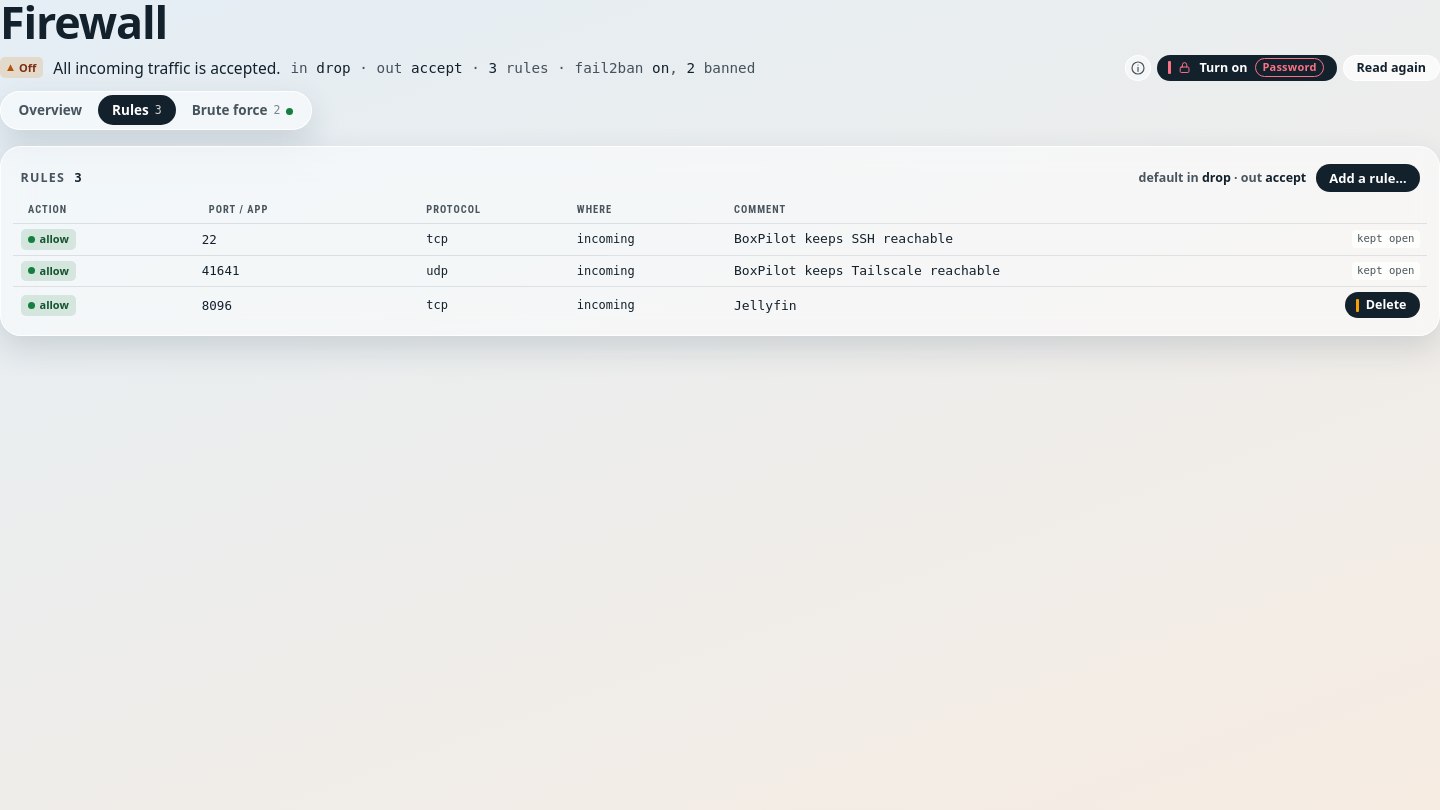
Test case: Firewall page › adds a rule from a sheet, and refuses a deny on a port that stays open
The image size is (1440, 810).
Click the button "Add a rule…": (1368, 178) [1316, 164, 1420, 192]
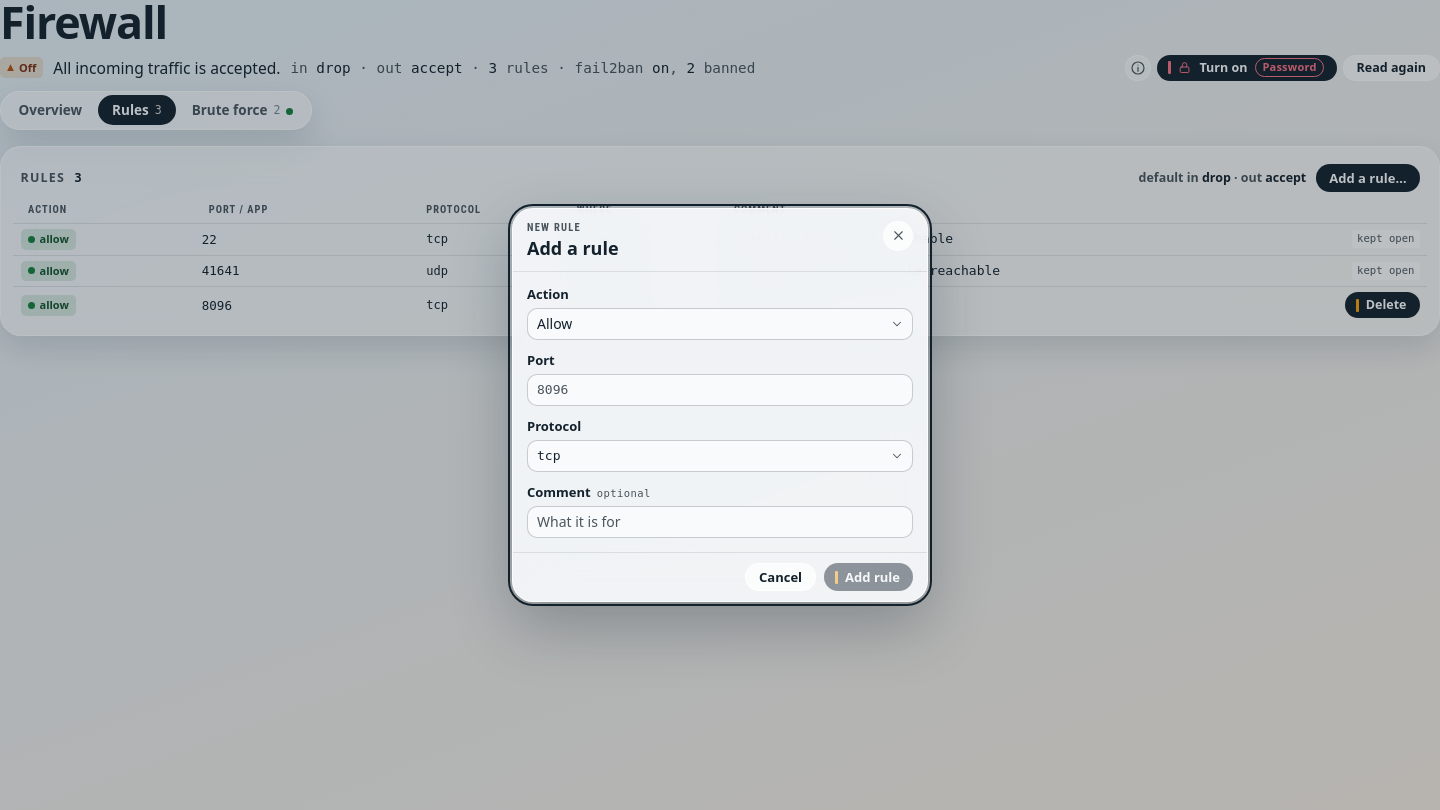
Select "Deny" in the dropdown labelled "Action": (720, 324) [527, 308, 913, 340]
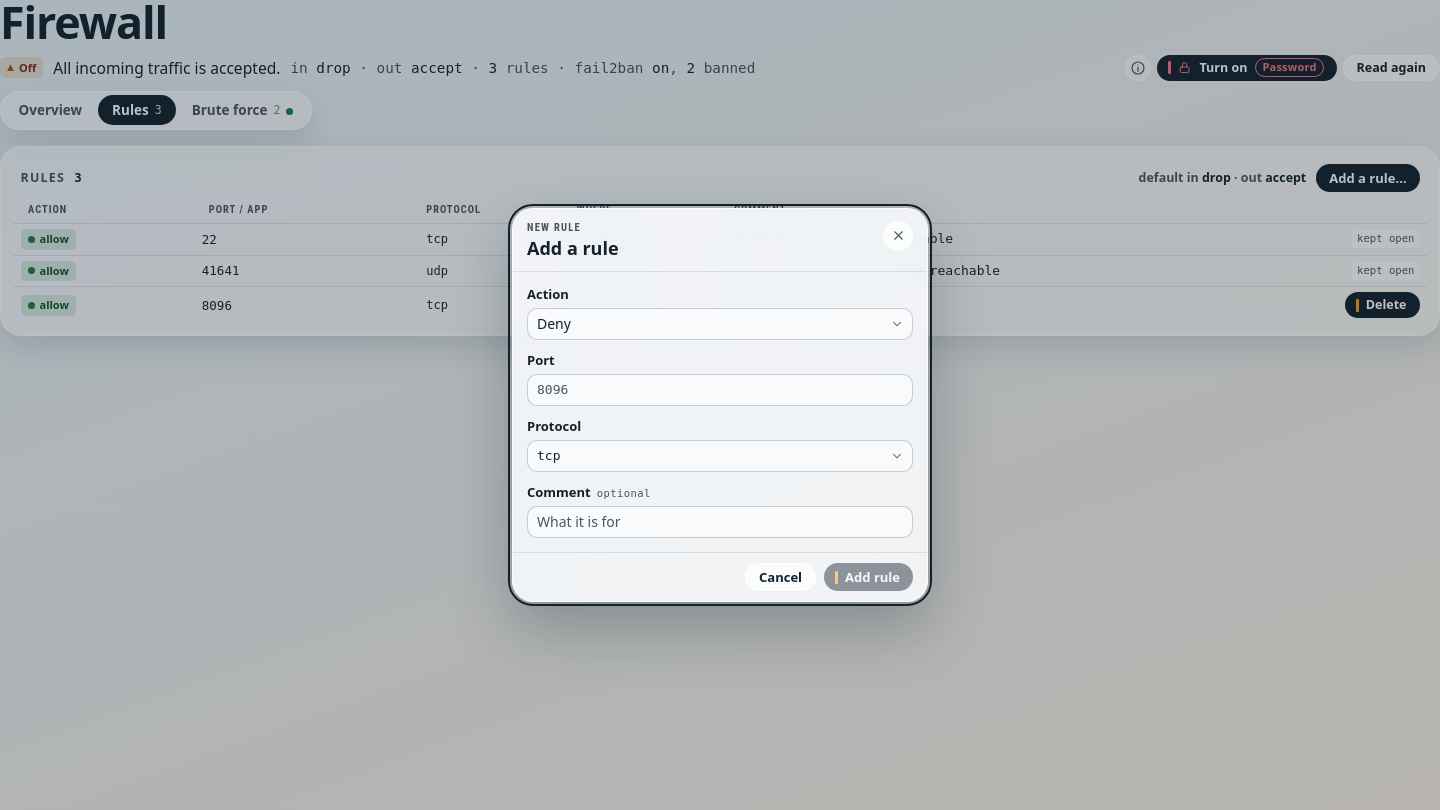
In the field labelled "Port": (720, 390) [527, 374, 913, 406], type "8787"
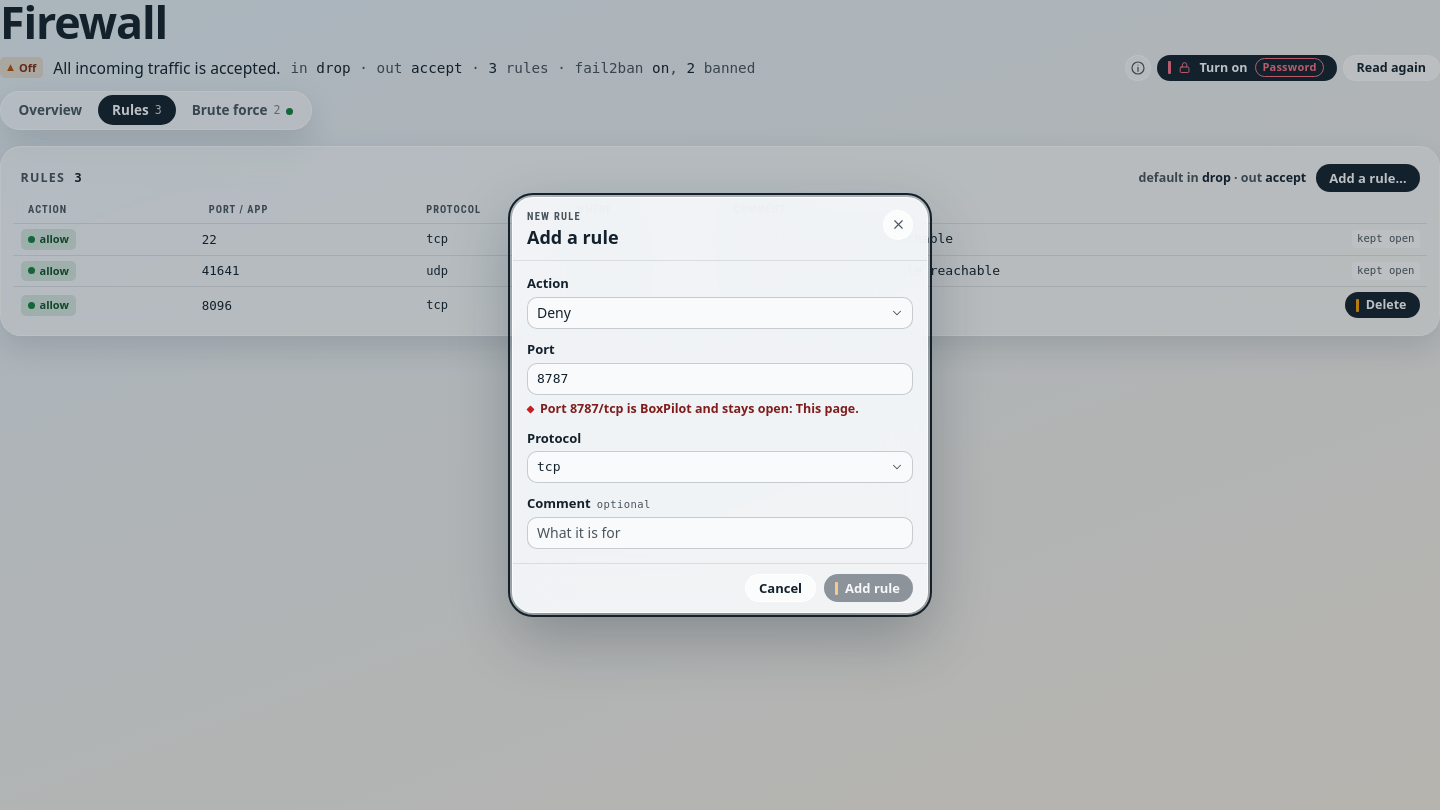
Expected: the button "Add rule" is disabled, [824, 574, 913, 602]
Expected: the text "Port 8787/tcp is BoxPilot and stays open: This page." is shown, [527, 400, 913, 418]
Replace the text in the field labelled "Port" with "8080": (720, 379) [527, 363, 913, 395]
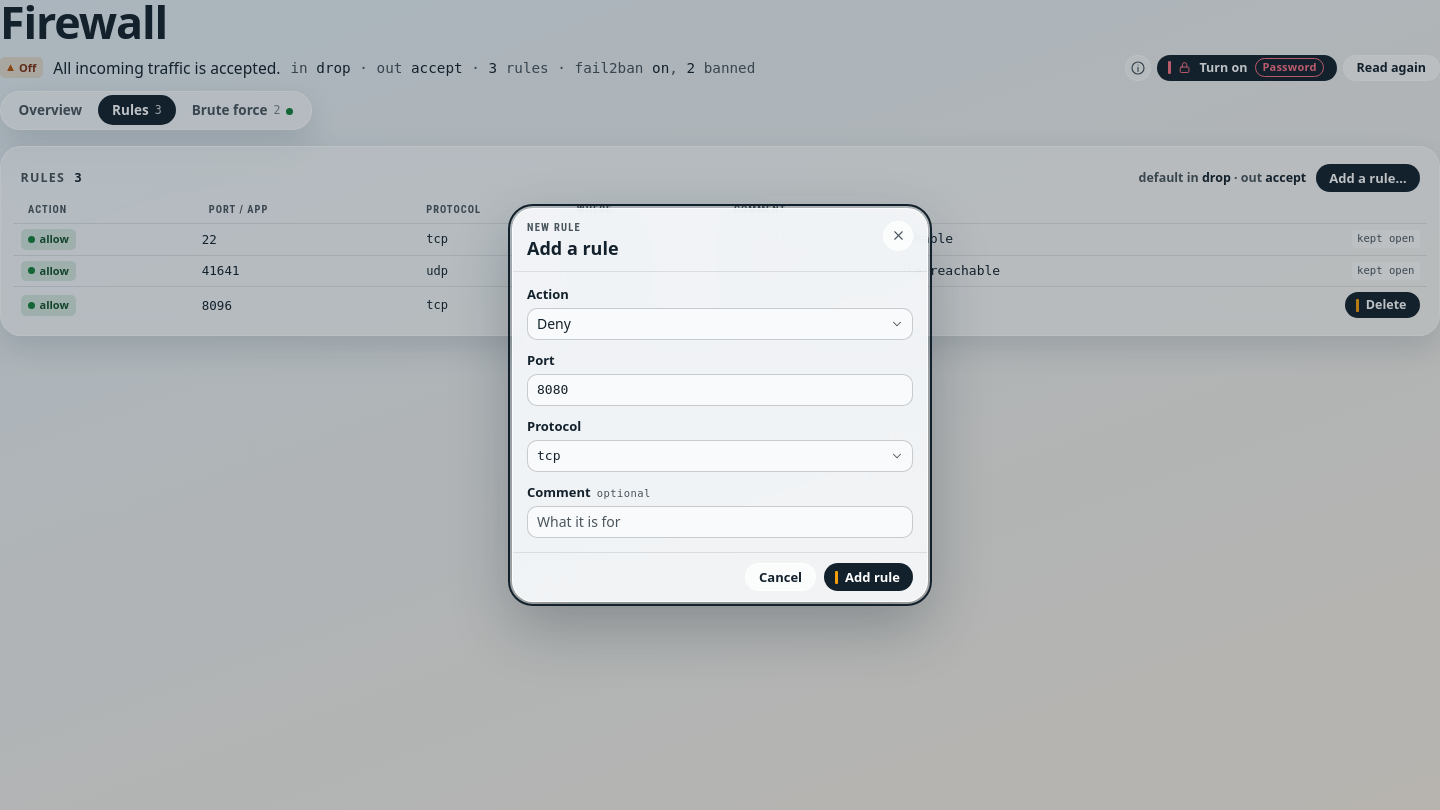
In the field labelled "Comment optional": (720, 522) [527, 506, 913, 538], type "test box"
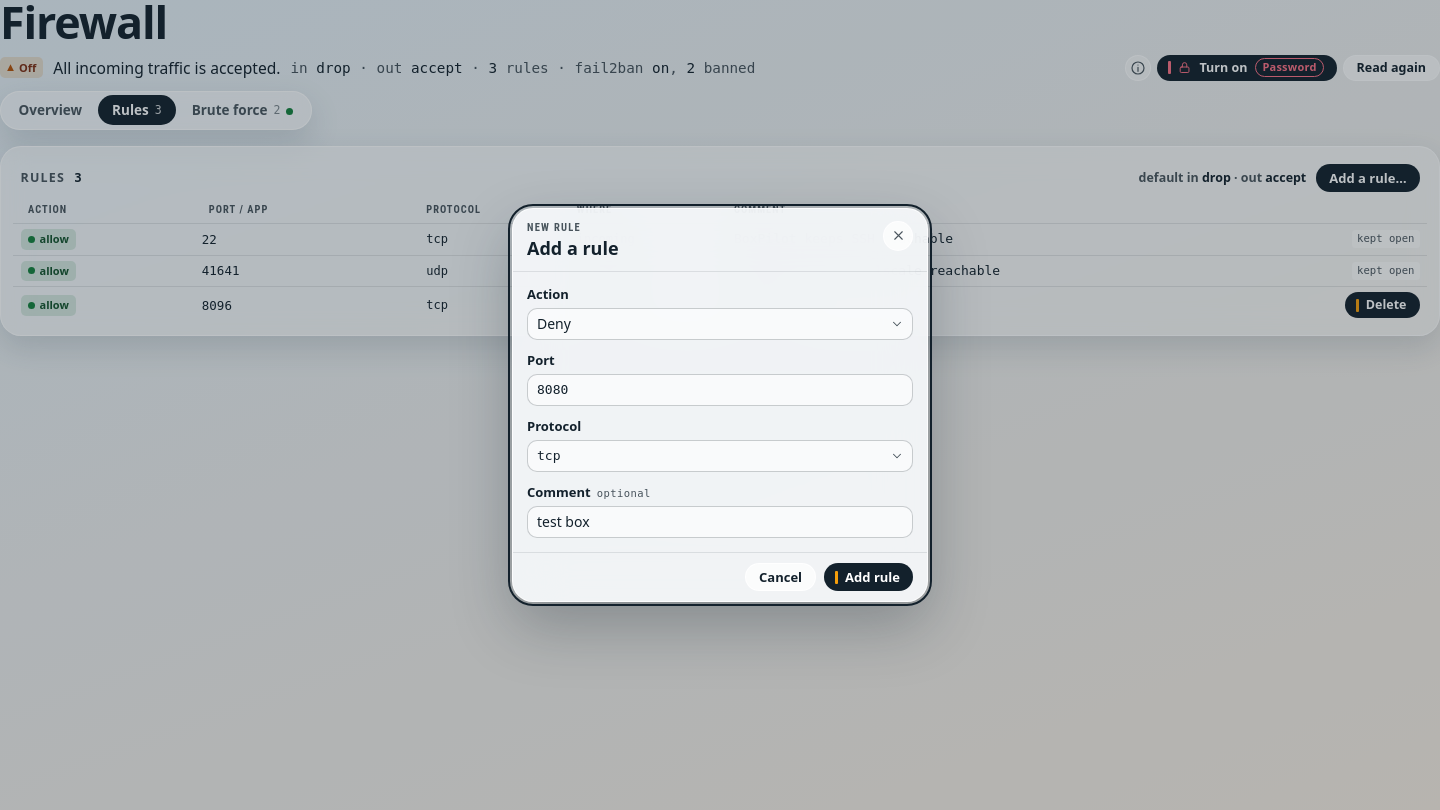
Expected: the button "Add rule" is enabled
Click the button "Add rule": (869, 577) [824, 563, 913, 591]
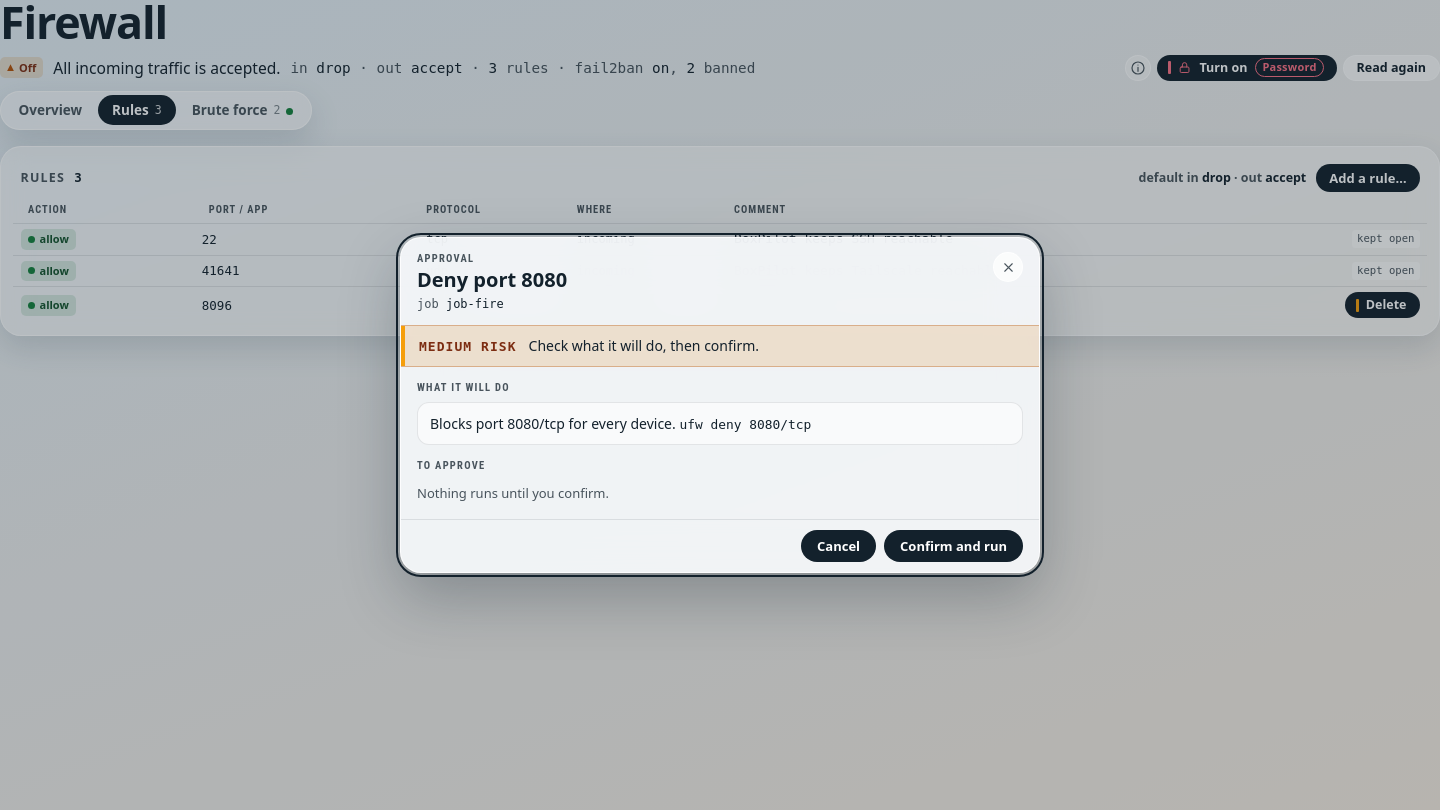
Expected: the text "Medium risk" is shown, [419, 339, 516, 354]
